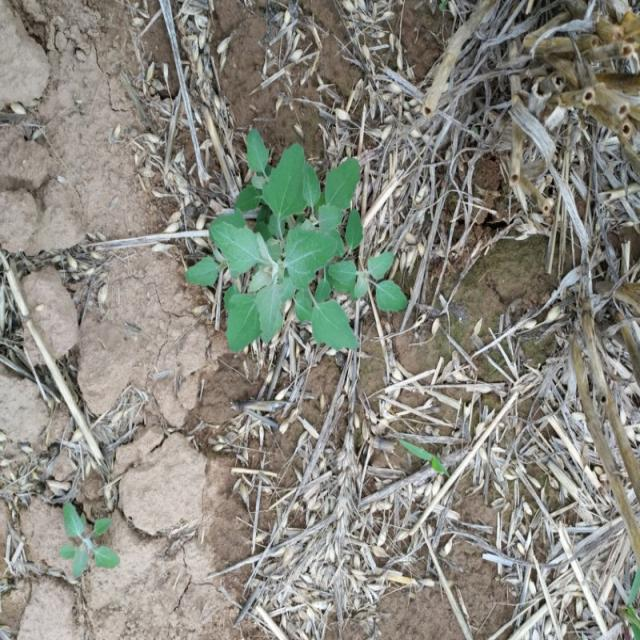goosefoots: (184, 142, 418, 355)
